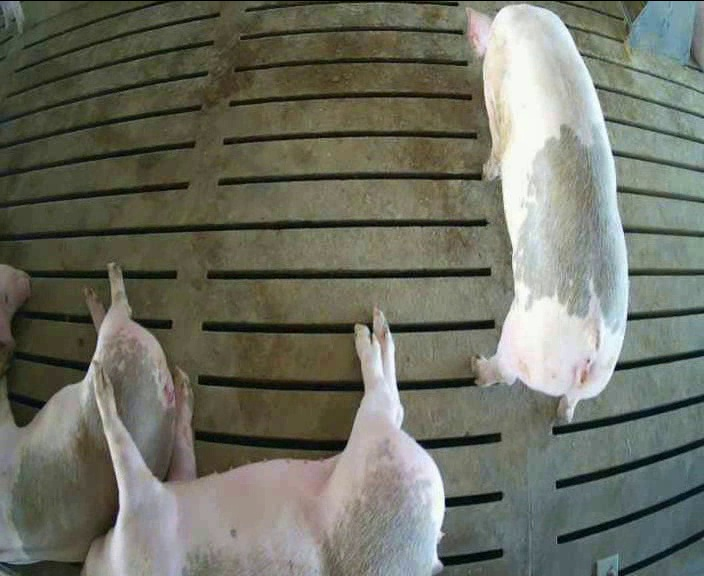pig: (83, 311, 442, 573), (466, 5, 626, 421)
